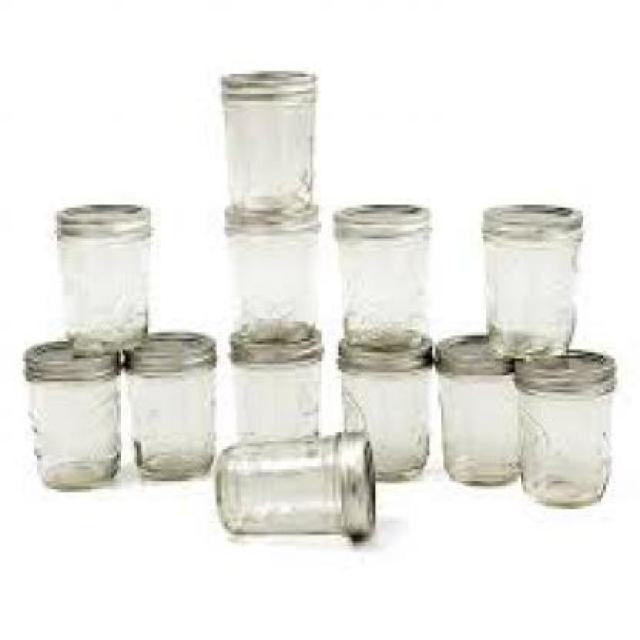kaca: (478, 228, 577, 352), (216, 436, 342, 532), (516, 388, 610, 506), (336, 230, 430, 348), (54, 230, 144, 348), (224, 224, 316, 338), (338, 364, 429, 478), (220, 94, 311, 208), (26, 376, 117, 486), (124, 364, 210, 476), (432, 371, 516, 482), (231, 358, 318, 442)
